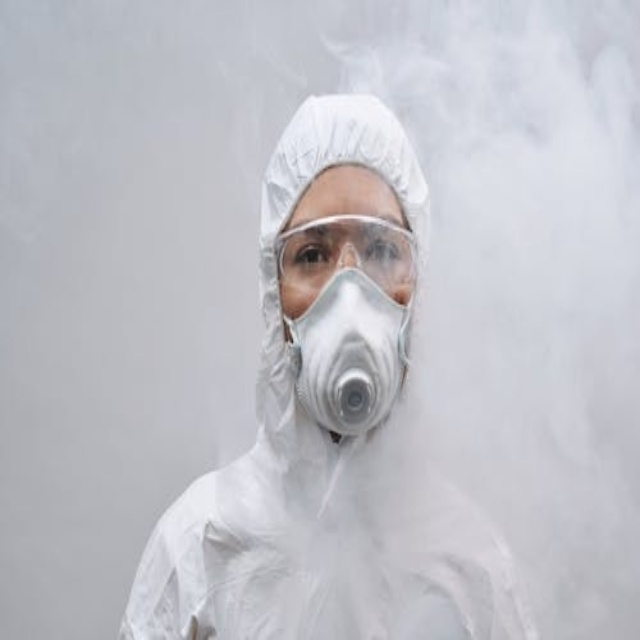Gafas: (273, 214, 419, 305)
Mascara: (286, 256, 410, 438)
